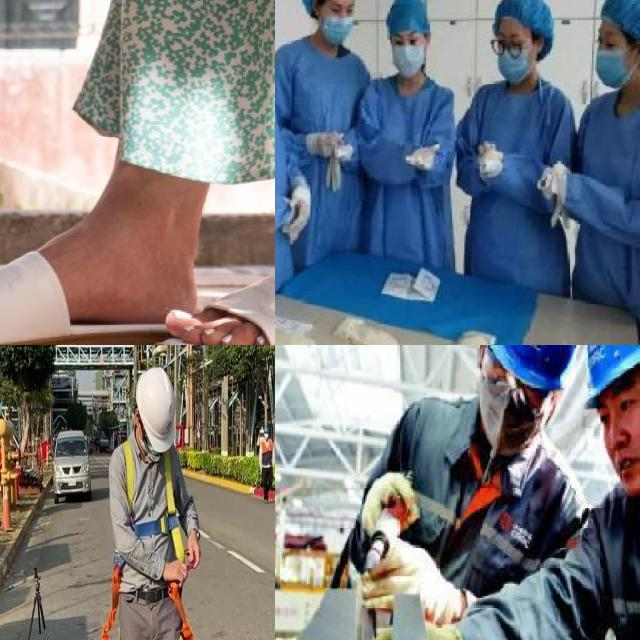Harness: (123, 441, 184, 560), (101, 555, 124, 640), (167, 583, 193, 640)
Sandals: (0, 195, 172, 345), (152, 200, 275, 345)
face_mask: (461, 347, 539, 464), (592, 21, 640, 83), (495, 24, 540, 84), (318, 0, 361, 49), (390, 30, 430, 78)
face_nomask: (591, 381, 640, 490)
glasses: (486, 36, 527, 61)
hand_glove: (362, 541, 441, 615), (359, 468, 413, 540), (281, 186, 315, 240), (404, 141, 443, 174), (312, 128, 344, 162), (475, 138, 501, 164)
head_helmet: (477, 345, 580, 405), (582, 345, 640, 399)
person: (328, 345, 591, 640), (466, 0, 577, 296), (569, 0, 640, 345), (362, 0, 453, 264), (290, 0, 375, 243), (275, 0, 312, 345)
